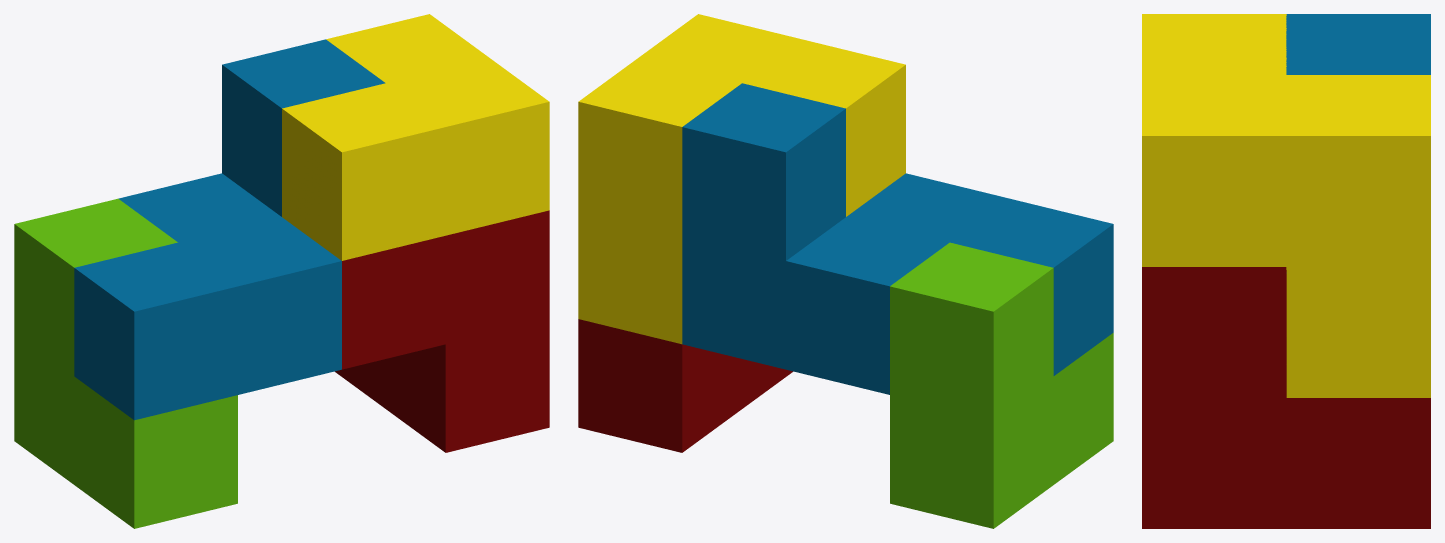
The picture shows the model from 3 angles, left to right: view 1: azimuth 30°, elevation 25°; view 2: azimuth 150°, elevation 25°; view 3: azimuth 270°, elevation 25°; orthographic projection. The views are drawn at different scales.
Visible parts, largest first — view 1: mergedBlocks(Clone); view 2: mergedBlocks(Clone); view 3: mergedBlocks(Clone).
Part boxes in pixels (left/top/right/bottom): mergedBlocks(Clone): left=14, top=14, right=549, bottom=528; mergedBlocks(Clone): left=578, top=14, right=1113, bottom=528; mergedBlocks(Clone): left=1142, top=14, right=1430, bottom=528.
Bounding box in the file's own units: 4 × 3 × 2.
4 materials, 4 textured.
